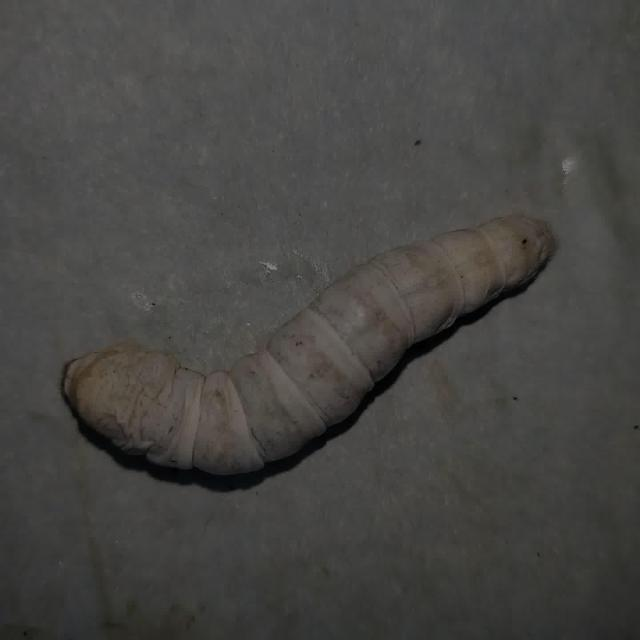Grasserie: (47, 201, 560, 493)
